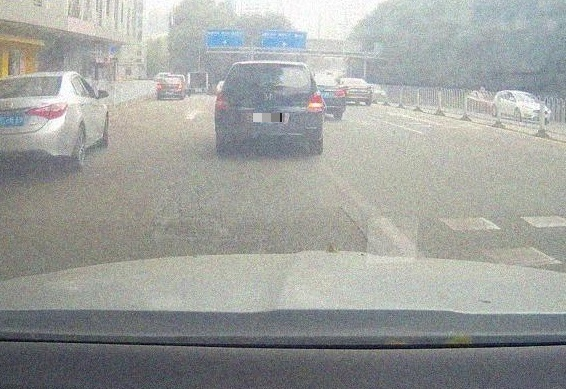L_light: (215, 93, 227, 110)
R_light: (309, 92, 323, 112)
T_light: (264, 65, 277, 68)
day-right: (214, 61, 324, 154)
plate_1: (253, 113, 282, 122)
